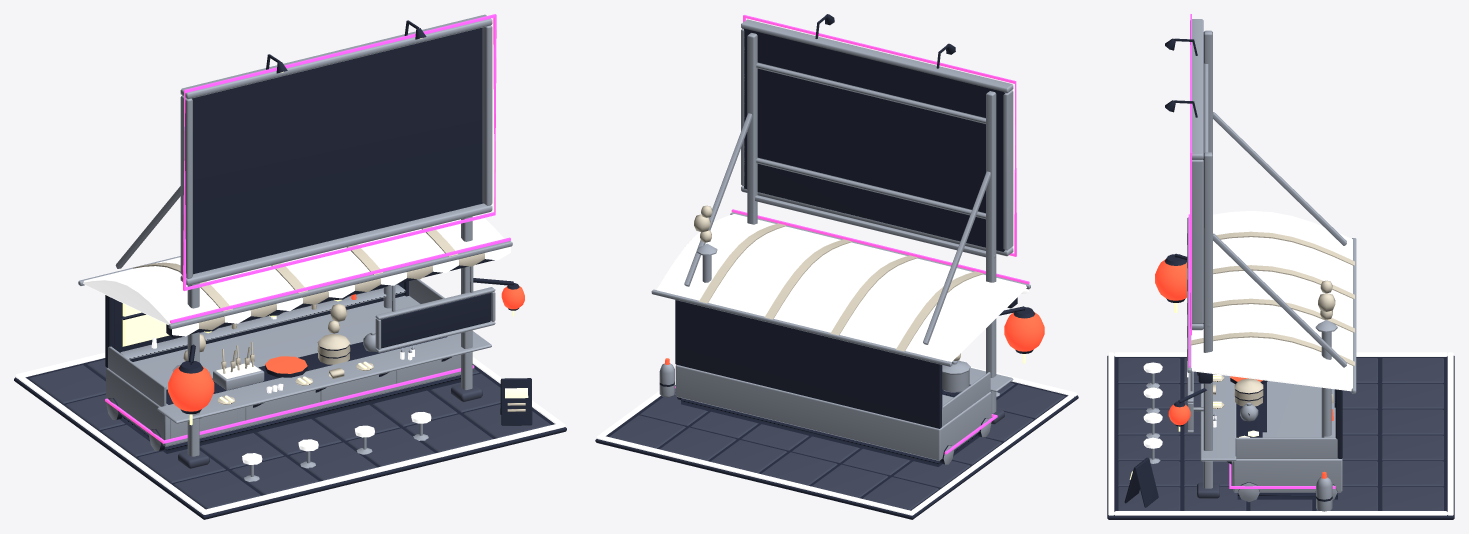
The model's file is lot2_pocha.glb.
The picture shows the model from 3 angles, left to right: view 1: azimuth 30°, elevation 25°; view 2: azimuth 150°, elevation 25°; view 3: azimuth 270°, elevation 25°; orthographic projection. The views are drawn at different scales.
Visible parts, largest first — view 1: Lot; view 2: Lot; view 3: Lot.
Boxes of the visible parts, <box> form: Lot: <box>14,14,566,519</box>; Lot: <box>595,14,1078,519</box>; Lot: <box>1107,14,1454,519</box>.
Size of the model in its own units: 8.4 by 8.93 by 7.6.
